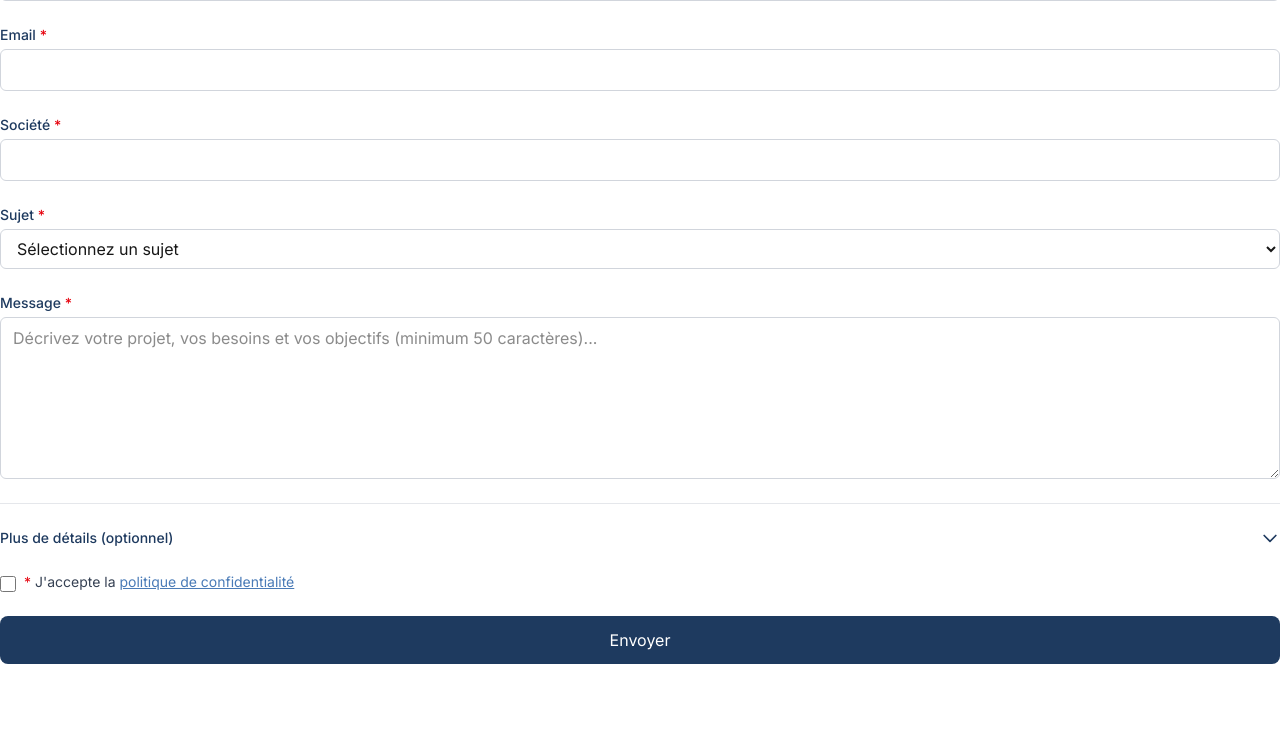
Test: ContactForm › expands and shows optional details section
Check: the field labelled "téléphone" is not shown
Check: the field labelled "budget estimé" is not shown
// Click "Plus de détails" button
Click the button "Plus de détails (optionnel)" at point(87, 538), box [0,528,1279,548]
(page scrolled)
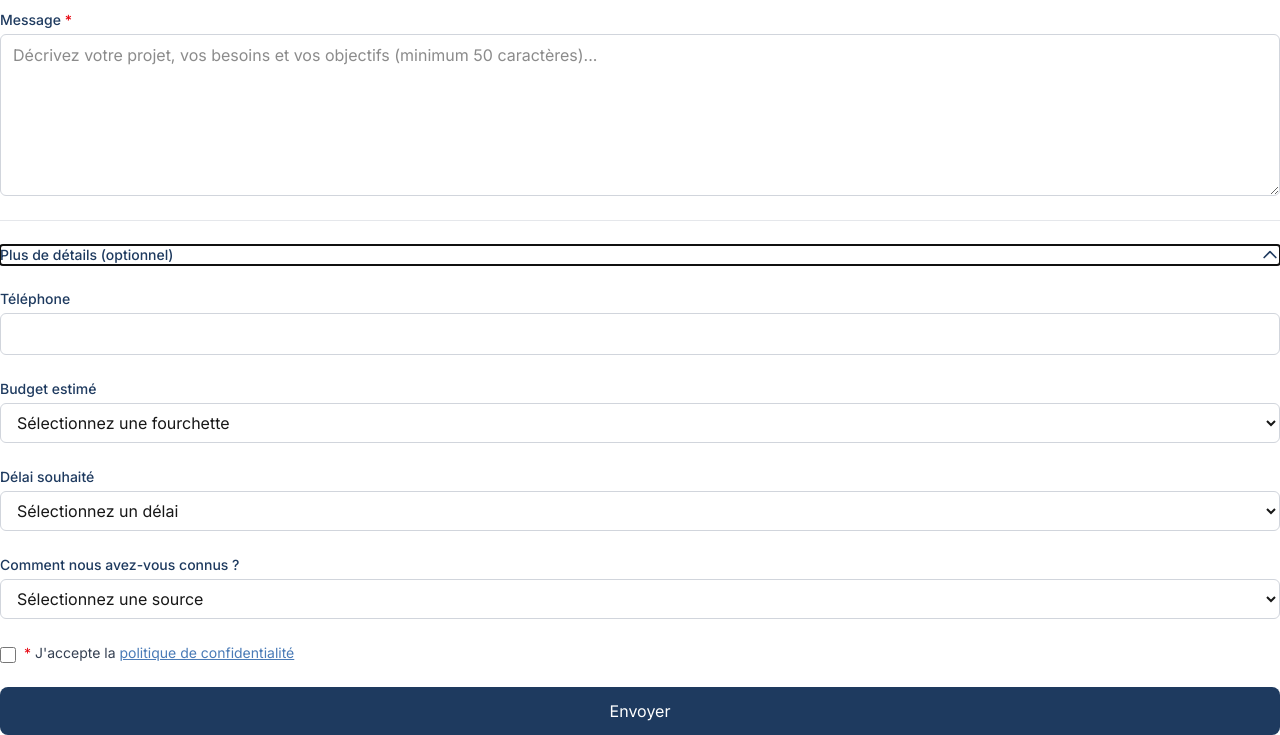
Check: the field labelled "Téléphone" is shown, box [0,313,1279,355]
Check: the dropdown labelled "Budget estimé" is shown, box [0,403,1279,443]
Check: the dropdown labelled "Délai souhaité" is shown, box [0,491,1279,531]
